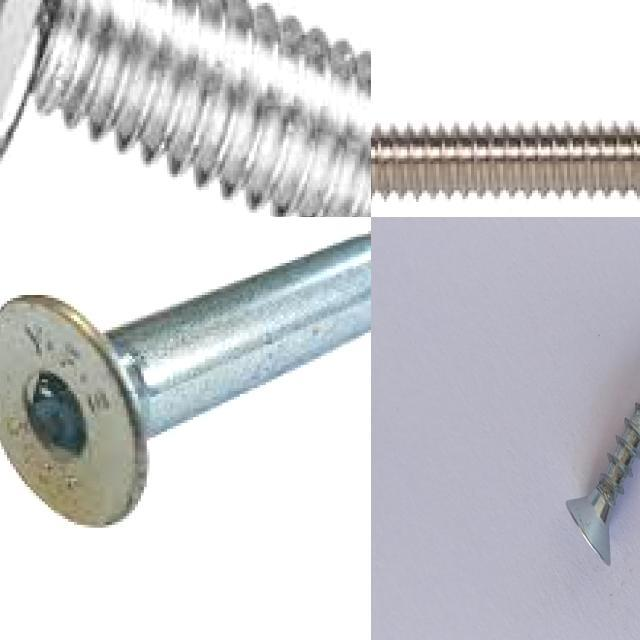Screw: (0, 230, 371, 531), (0, 0, 371, 217), (371, 119, 640, 199), (566, 402, 640, 565)
